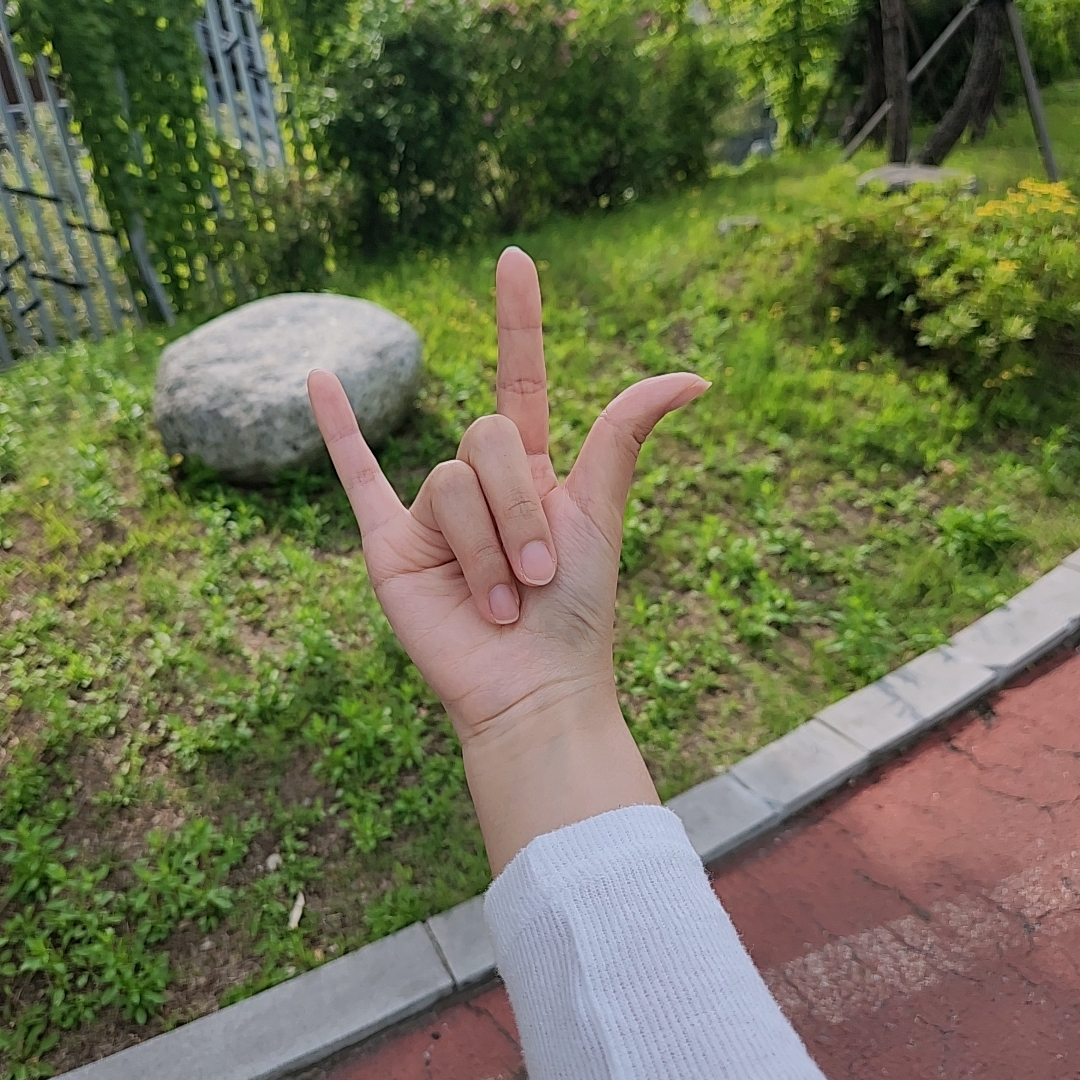iloveyou: (301, 245, 710, 709)
